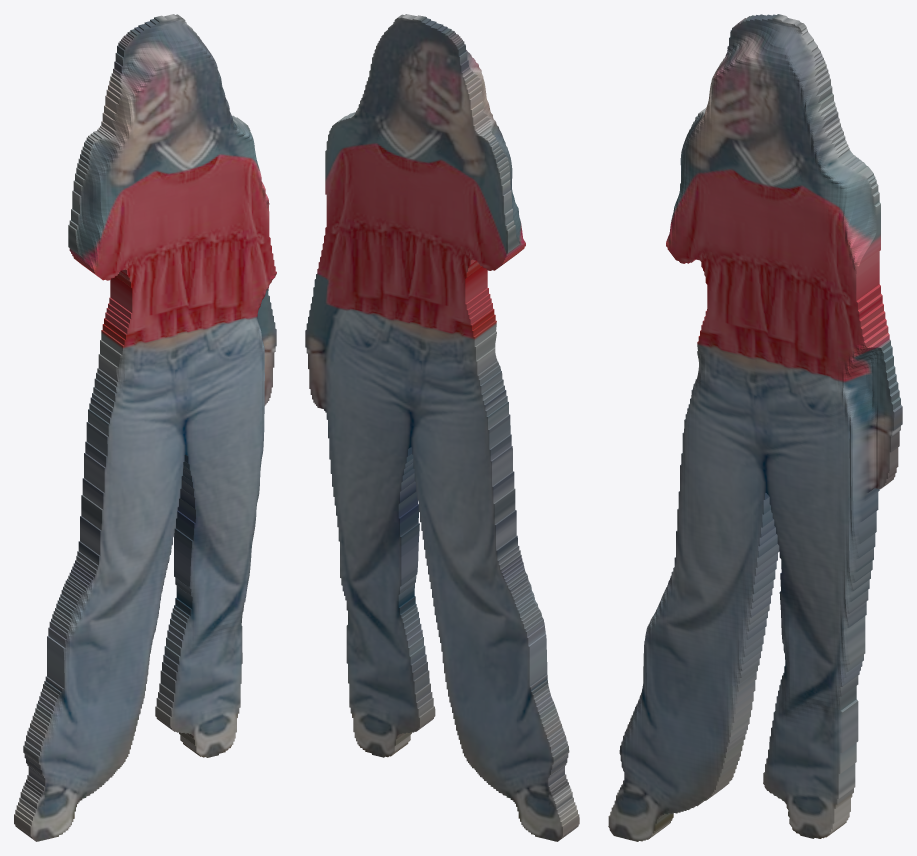
File: avatar_ar_231940.glb
3 renders of one model, left to right at view 1: azimuth 30°, elevation 25°; view 2: azimuth 150°, elevation 25°; view 3: azimuth 330°, elevation 25°, orthographic. The views are drawn at different scales.
Parts seen in each view (by area): view 1: world; view 2: world; view 3: world.
Boxes of the visible parts, x1=… form: world: x1=14, y1=14, x2=276, y2=841; world: x1=305, y1=14, x2=579, y2=841; world: x1=608, y1=14, x2=902, y2=841.
Bounding box in the file's own units: 36.67 × 107 × 5.56.
